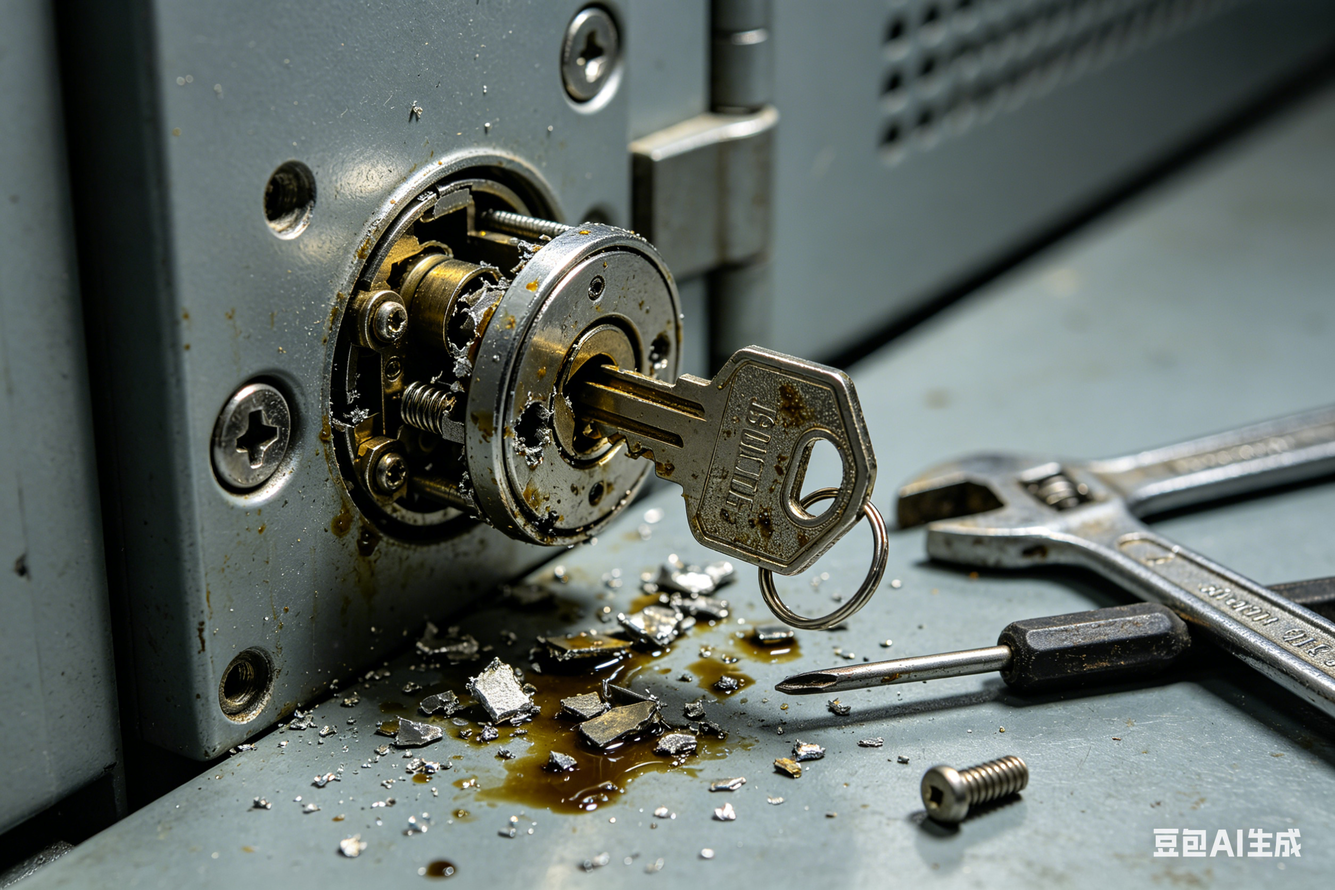BadLock: (369, 195, 680, 522)
